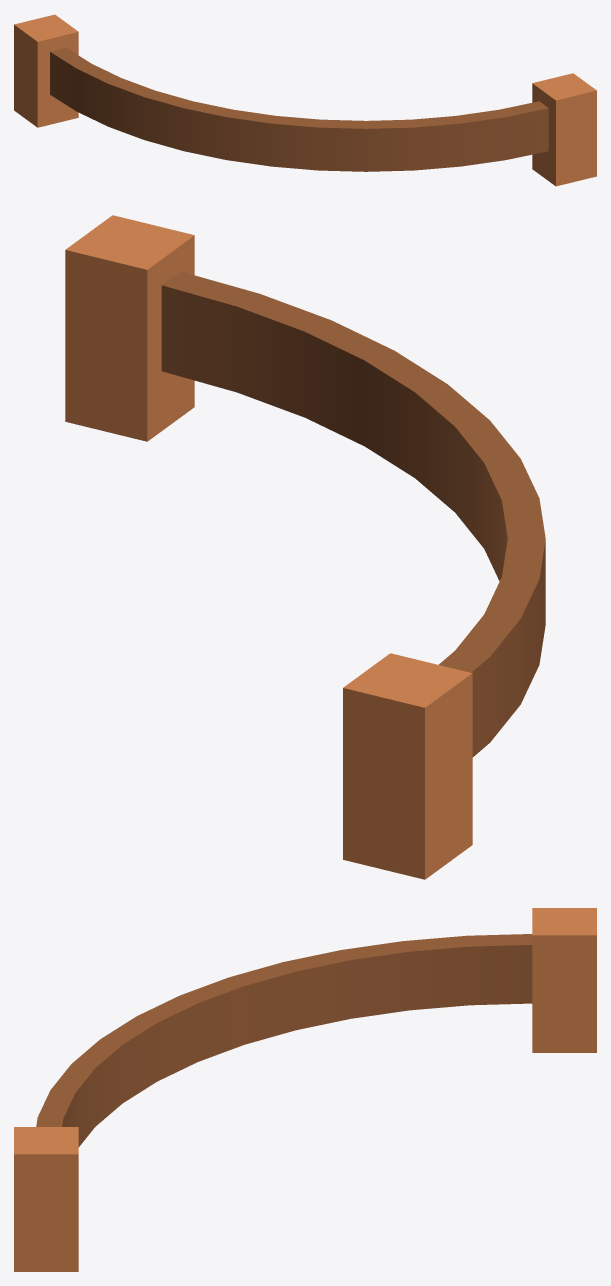
Rendered from fenceLowCornerCurved.fbx.
The picture shows the model from 3 angles, top to bottom: view 1: azimuth 30°, elevation 25°; view 2: azimuth 150°, elevation 25°; view 3: azimuth 270°, elevation 25°; orthographic projection. The views are drawn at different scales.
Visible parts, largest first — view 1: fenceLowCornerCurved; view 2: fenceLowCornerCurved; view 3: fenceLowCornerCurved.
Boxes of the visible parts, x1=… form: fenceLowCornerCurved: x1=14, y1=14, x2=596, y2=186; fenceLowCornerCurved: x1=65, y1=215, x2=545, y2=879; fenceLowCornerCurved: x1=14, y1=908, x2=596, y2=1271.
Size of the model in its own units: 9 by 2 by 9.
